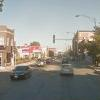Car: (8, 56, 36, 86)
